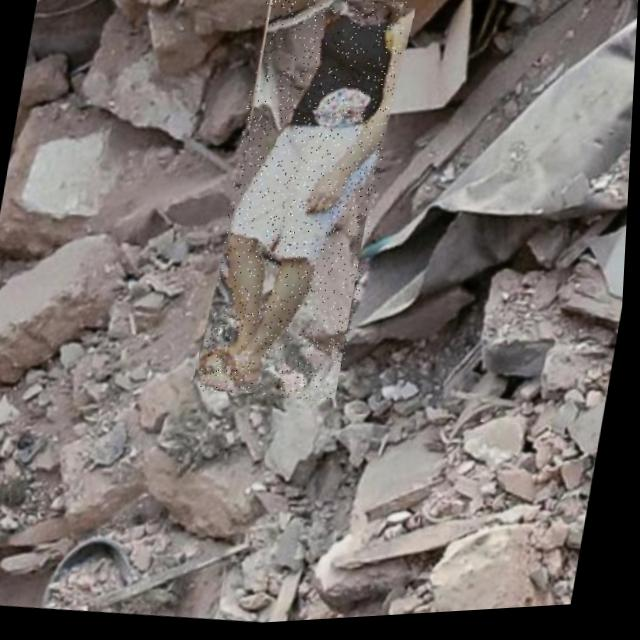Person in Rubble: (201, 0, 411, 412)
